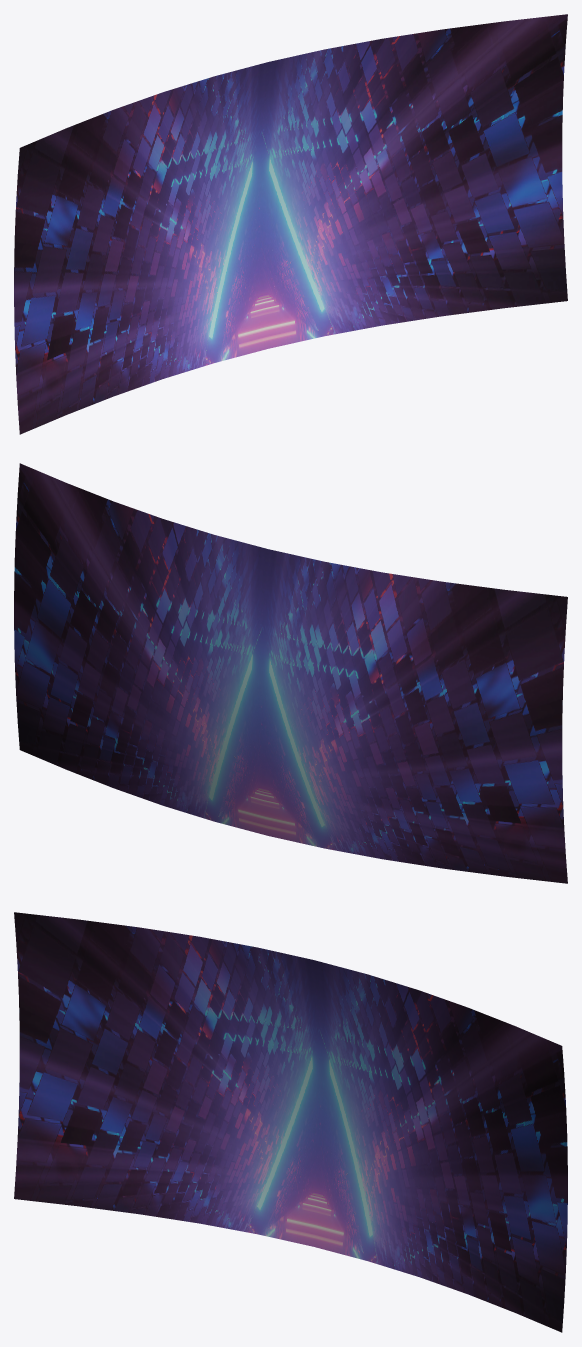
Rendered from C_Futuro6.fbx.
3 views of the same model, one above another, from view 1: azimuth 30°, elevation 25°; view 2: azimuth 150°, elevation 25°; view 3: azimuth 330°, elevation 25° (orthographic).
Parts seen in each view (by area): view 1: pPlane1; view 2: pPlane1; view 3: pPlane1.
Boxes of the visible parts, x1,y1,x2,y2 form: pPlane1: [14, 14, 567, 434]; pPlane1: [14, 463, 567, 883]; pPlane1: [14, 912, 567, 1332].
Bounding box in the file's own units: 400 × 200 × 42.49.
Materials: 1 (1 with a texture image).
